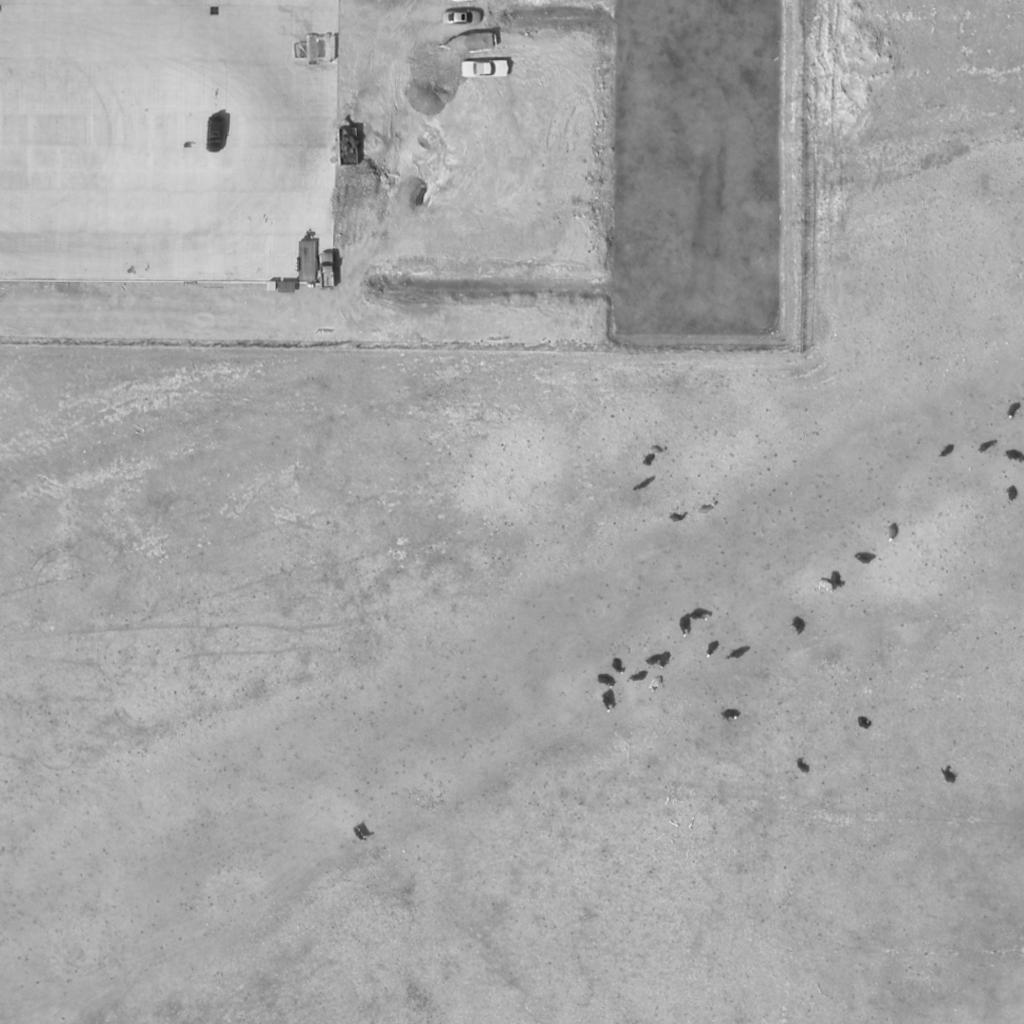vehicle: (439, 29, 499, 57), (461, 59, 511, 79), (317, 254, 339, 290), (207, 115, 225, 155), (443, 9, 483, 25)
